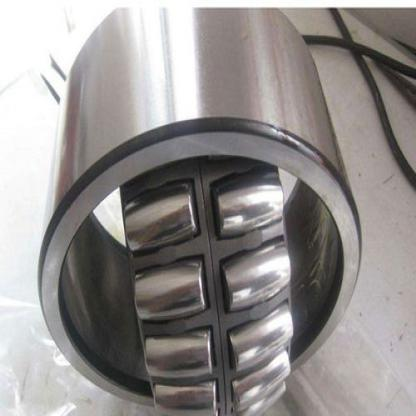FOD: (34, 0, 366, 411)
